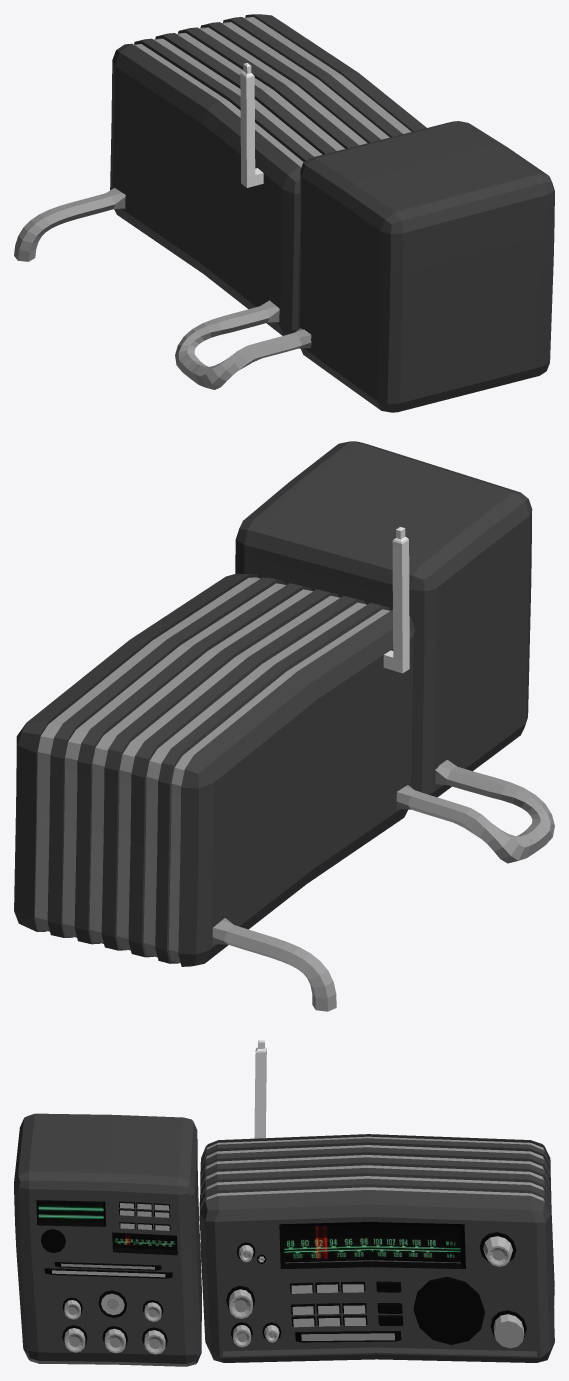
The model's file is Radio.fbx.
The picture shows the model from 3 angles, top to bottom: view 1: azimuth 30°, elevation 25°; view 2: azimuth 150°, elevation 25°; view 3: azimuth 270°, elevation 25°; orthographic projection. The views are drawn at different scales.
Parts seen in each view (by area): view 1: Radio; view 2: Radio; view 3: Radio.
Part boxes in pixels (x1=…): Radio: x1=14, y1=14, x2=554, y2=412; Radio: x1=14, y1=441, x2=554, y2=1011; Radio: x1=14, y1=1040, x2=554, y2=1366.
Size of the model in its own units: 337 by 328 by 619.
Materials: 6 (1 with a texture image).
